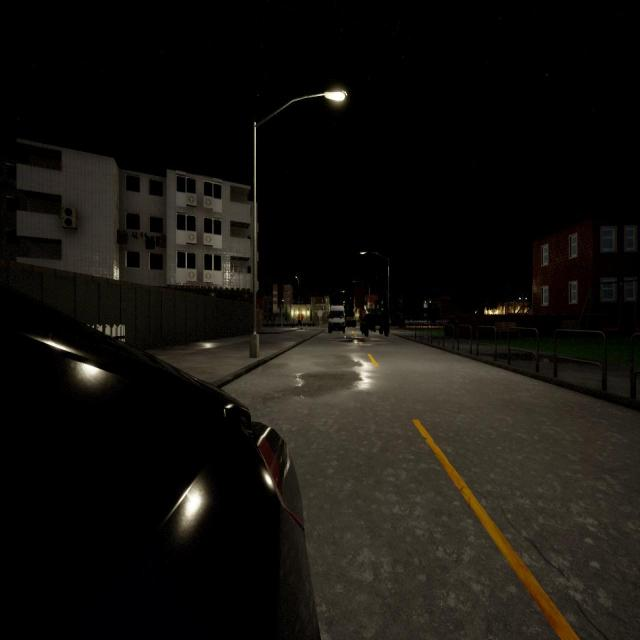Traffic_Signs: (318, 310, 322, 317)
Vehicle: (0, 285, 319, 638), (360, 309, 390, 338), (327, 306, 346, 334), (345, 317, 357, 328)
